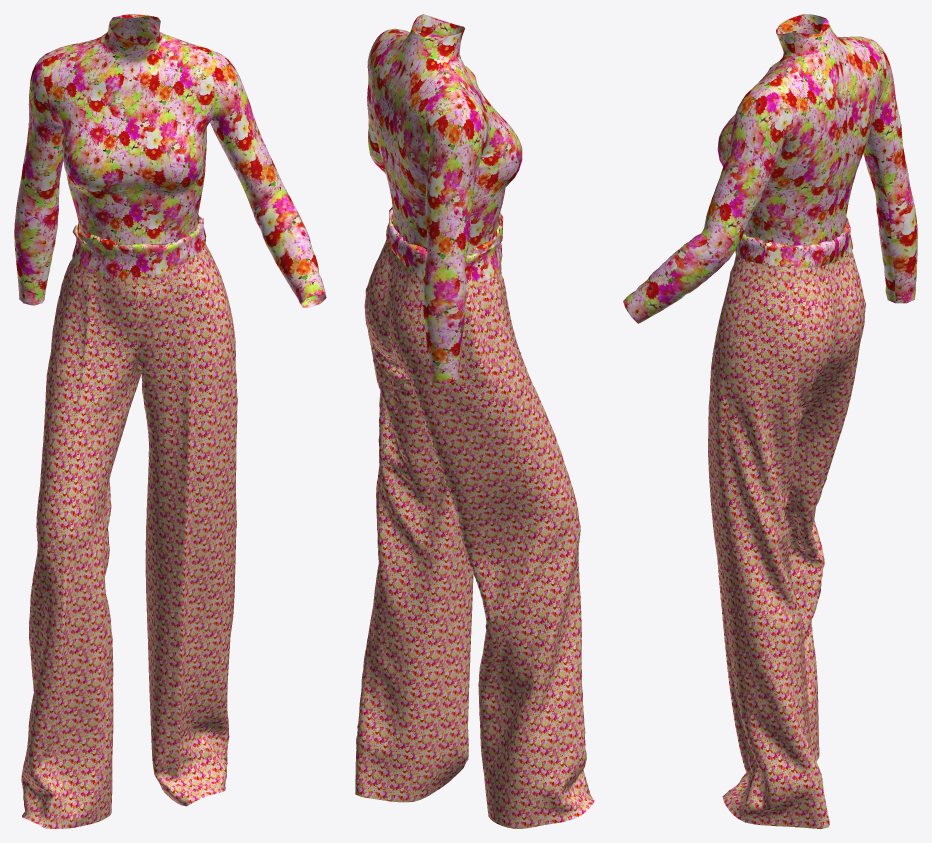
Rendered from DA_HighNeck+WidePants_0000078.obj.
The picture shows the model from 3 angles, left to right: view 1: azimuth 30°, elevation 25°; view 2: azimuth 150°, elevation 25°; view 3: azimuth 270°, elevation 25°; orthographic projection. The views are drawn at different scales.
Bounding box in the file's own units: 0.5352 × 1.63 × 0.5618.
